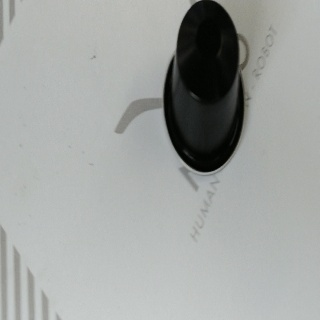capsule_10: (162, 1, 245, 176)
